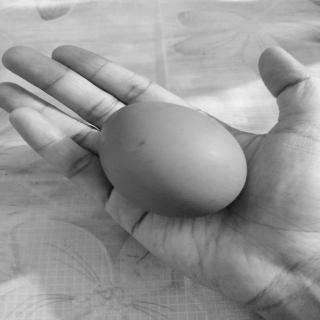Telur: (97, 102, 251, 218)
